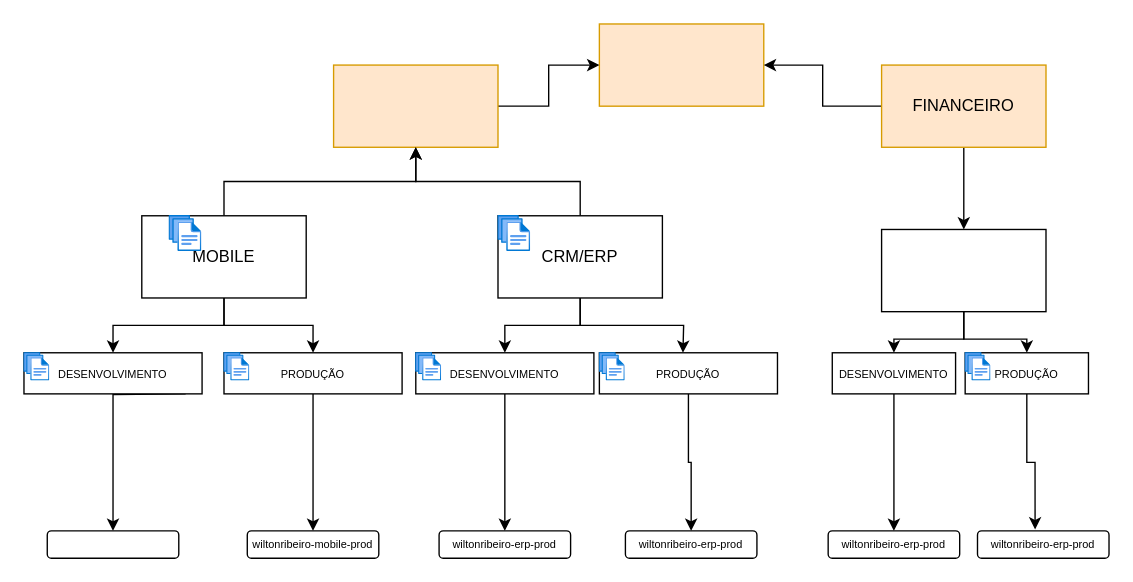
Some shapes in this 1133 by 582 pixel diagram are drawn without their labels. Here are the shapes that lost their labels. From the top down, the centre of each, then its label:
the point at 681,64: wiltonribeiro.com.br
the point at 415,105: COMERCIAL
the point at 963,270: ECOMMERCE
the point at 112,544: wiltonribeiro-mobile-dev
